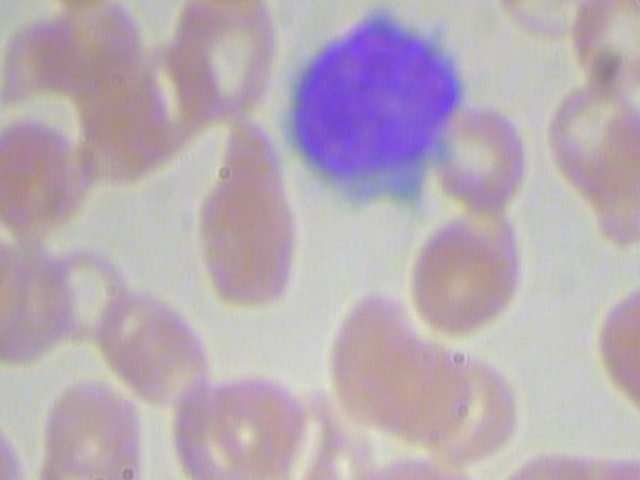RBC: (195, 112, 299, 309), (527, 79, 640, 250), (405, 212, 521, 344), (97, 283, 218, 409), (426, 105, 531, 218), (567, 0, 640, 89)
WBC: (267, 2, 482, 215)
